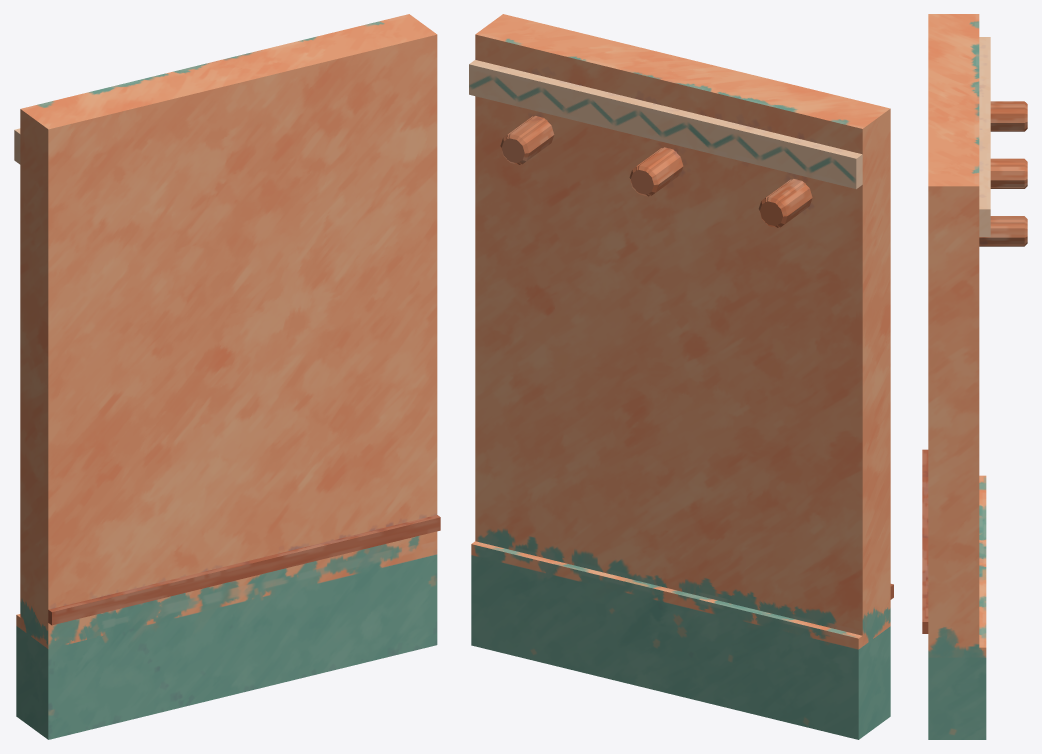
Rendered from wall2_plain.bundle.fbx.
3 views of the same model, side by side, from view 1: azimuth 30°, elevation 25°; view 2: azimuth 150°, elevation 25°; view 3: azimuth 270°, elevation 25° (orthographic). The views are drawn at different scales.
Parts seen in each view (by area): view 1: wall2_plain, wall2_plain_s11, wall2_plain_s06, wall2_plain_s02, wall2_plain_s07, wall2_plain_s01, wall2_plain_s10, wall2_plain_s05, wall2_plain_s04, wall2_plain_s00, wall2_plain_s03; view 2: wall2_plain, wall2_plain_s01, wall2_plain_s07, wall2_plain_s06, wall2_plain_s05, wall2_plain_s09, wall2_plain_s02, wall2_plain_s04, wall2_plain_s08, wall2_plain_s03, wall2_plain_s00, wall2_plain_s11 (+2 smaller); view 3: wall2_plain, wall2_plain_s10, wall2_plain_s08, wall2_plain_s07, wall2_plain_s05, wall2_plain_s06, wall2_plain_s02, wall2_plain_low, wall2_plain_s11, wall2_plain_s00, wall2_plain_s09.
Boxes of the visible parts, box(x1,y1,x2,y2) form: wall2_plain: box(14, 14, 440, 739); wall2_plain_s11: box(94, 498, 330, 702); wall2_plain_s06: box(263, 271, 437, 509); wall2_plain_s02: box(162, 52, 298, 284); wall2_plain_s07: box(212, 504, 440, 699); wall2_plain_s01: box(20, 377, 318, 556); wall2_plain_s10: box(278, 14, 437, 233); wall2_plain_s05: box(16, 74, 186, 376); wall2_plain_s04: box(14, 129, 122, 458); wall2_plain_s00: box(17, 543, 197, 738); wall2_plain_s03: box(145, 262, 340, 386); wall2_plain: box(469, 14, 893, 739); wall2_plain_s01: box(591, 362, 888, 554); wall2_plain_s07: box(471, 492, 726, 707); wall2_plain_s06: box(475, 276, 651, 501); wall2_plain_s05: box(711, 76, 890, 371); wall2_plain_s09: box(498, 60, 636, 288); wall2_plain_s02: box(628, 50, 757, 290); wall2_plain_s04: box(768, 158, 890, 465); wall2_plain_s08: box(475, 198, 562, 429); wall2_plain_s03: box(594, 261, 749, 374); wall2_plain_s00: box(731, 566, 890, 739); wall2_plain_s11: box(601, 499, 794, 707); wall2_plain: box(922, 14, 1027, 739); wall2_plain_s10: box(928, 120, 990, 346); wall2_plain_s08: box(929, 336, 979, 546); wall2_plain_s07: box(923, 563, 986, 739); wall2_plain_s05: box(928, 14, 990, 99); wall2_plain_s06: box(928, 506, 979, 617); wall2_plain_s02: box(928, 74, 990, 139); wall2_plain_low: box(979, 102, 1027, 246); wall2_plain_s11: box(922, 480, 986, 563); wall2_plain_s00: box(922, 449, 986, 504); wall2_plain_s09: box(958, 118, 990, 160).
Size of the model in its own units: 8 by 12 by 2.07.
1 material, 1 textured.
